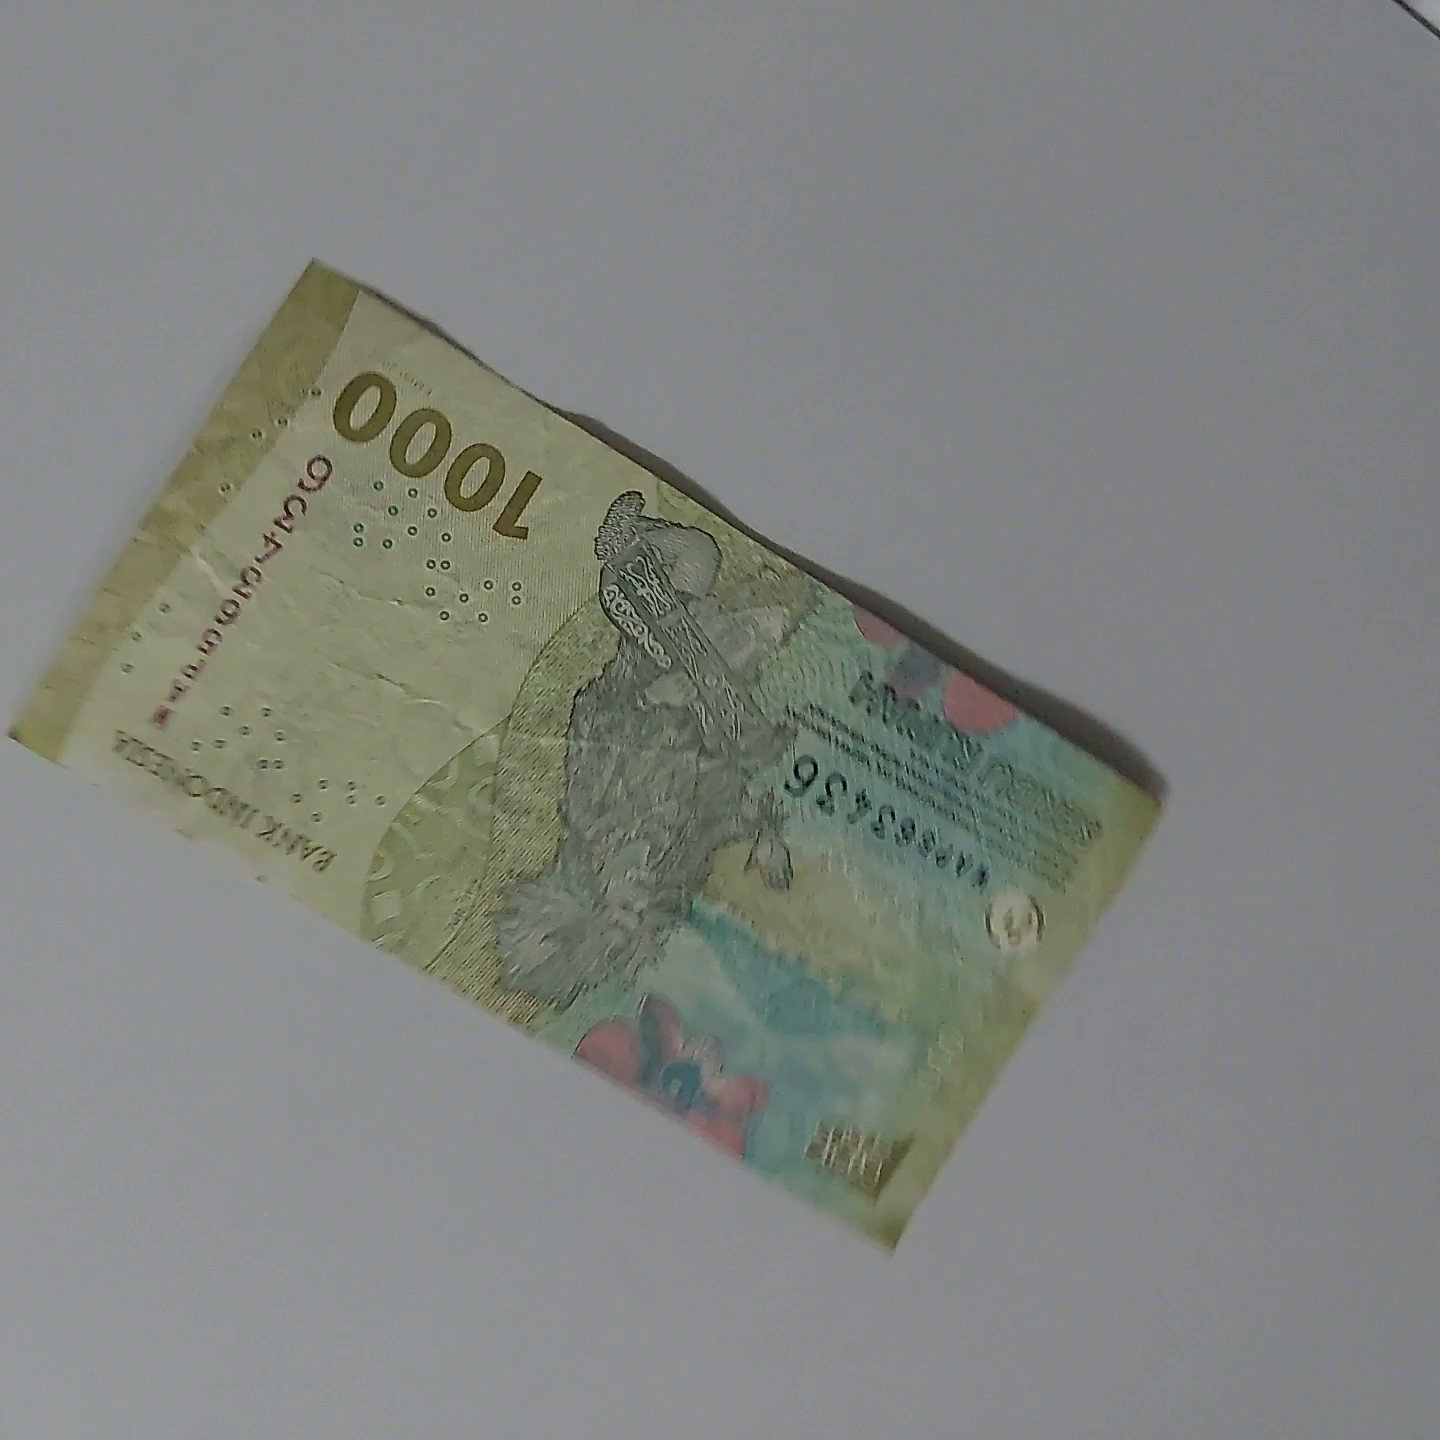1k: (278, 252, 1358, 808)
